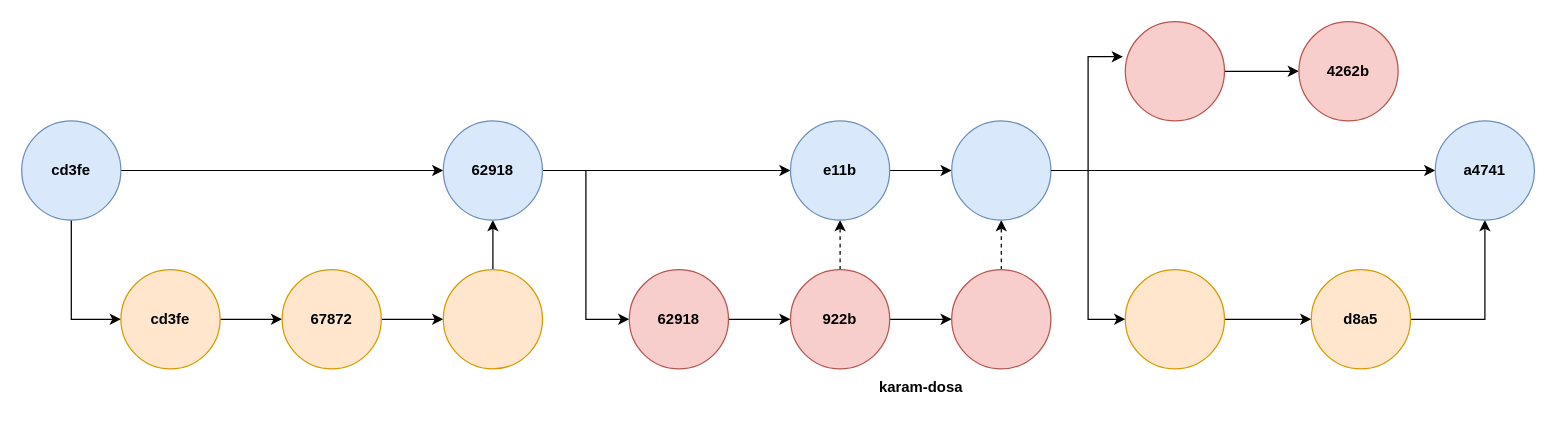
The diagram is 1556 pixels wide and 428 high, and some of its shapes have lost their labels. Here are the shapes that lost their labels. From the top down, the box of each, then its label:
(1124, 20, 1224, 121): ad3a507
(950, 120, 1051, 220): feb5
(442, 268, 542, 369): 3aed
(950, 268, 1051, 369): 24ab
(1124, 268, 1224, 369): 15d2
